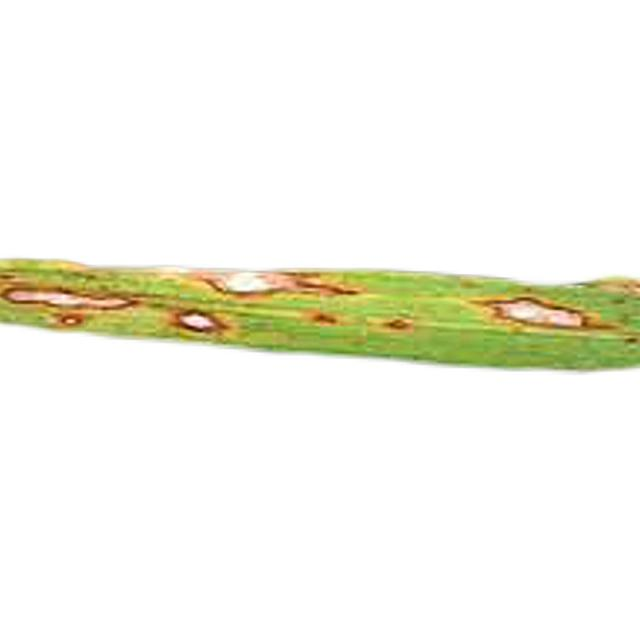Leaf blast: (0, 239, 640, 406)
